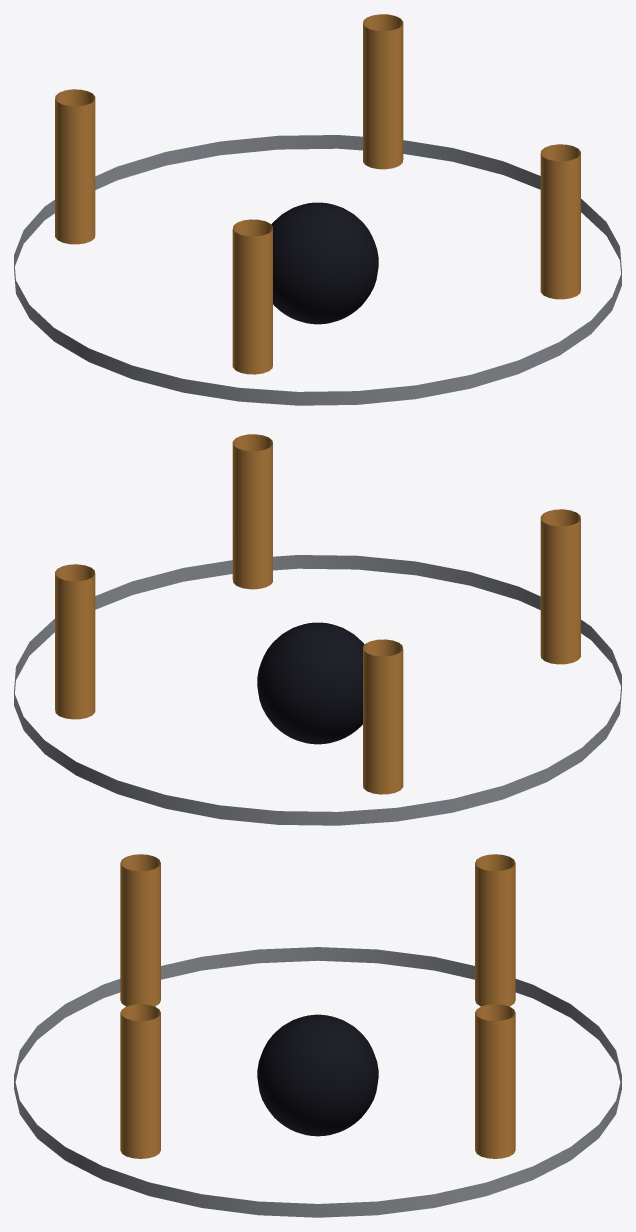
Rendered from Arena.obj.
3 renders of one model, top to bottom at view 1: azimuth 30°, elevation 25°; view 2: azimuth 150°, elevation 25°; view 3: azimuth 270°, elevation 25°, orthographic.
Size of the model in its own units: 12 by 4.2 by 12.
